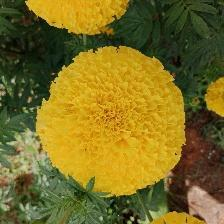marigold: (37, 45, 189, 196)
